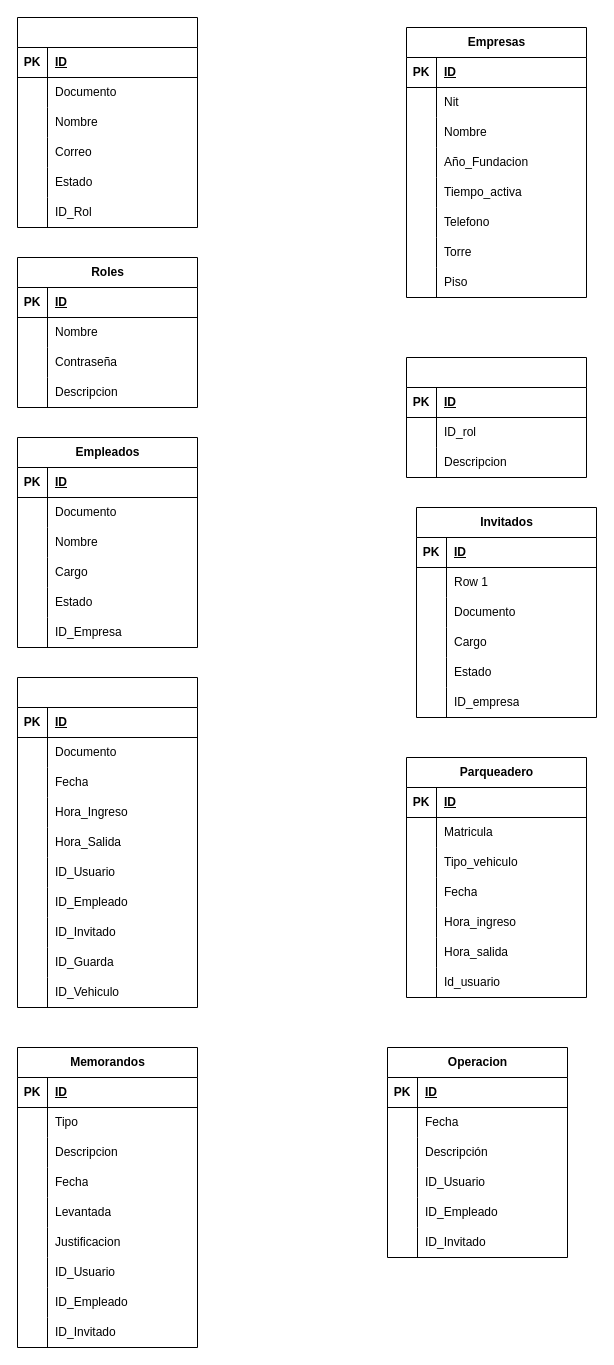
This 614x1365 diagram has some shape labels left out. Each missing label, with the box of its shape:
Control_Acceso: (16, 676, 198, 1008)
Tarea_Rol: (406, 356, 586, 478)
Usuarios: (16, 16, 198, 228)
